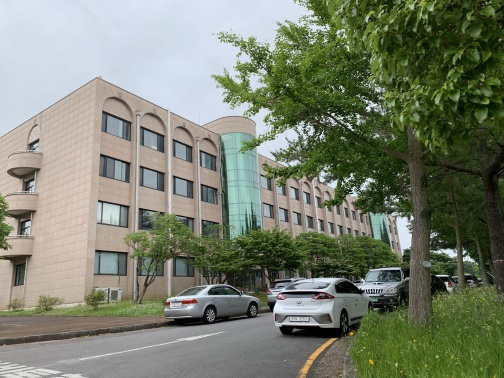Natural Science2: (5, 93, 273, 315), (90, 81, 395, 238)
